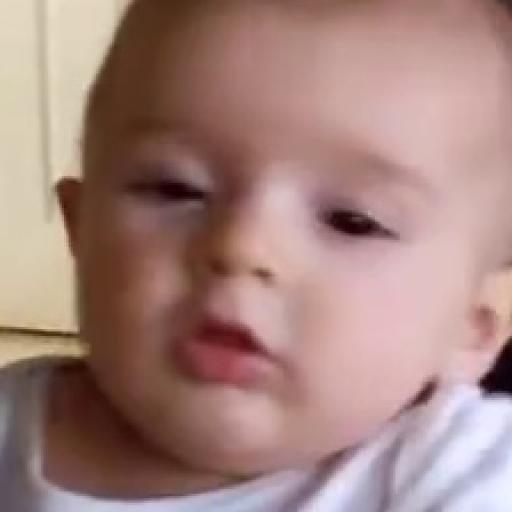Autism: (29, 6, 512, 504)
